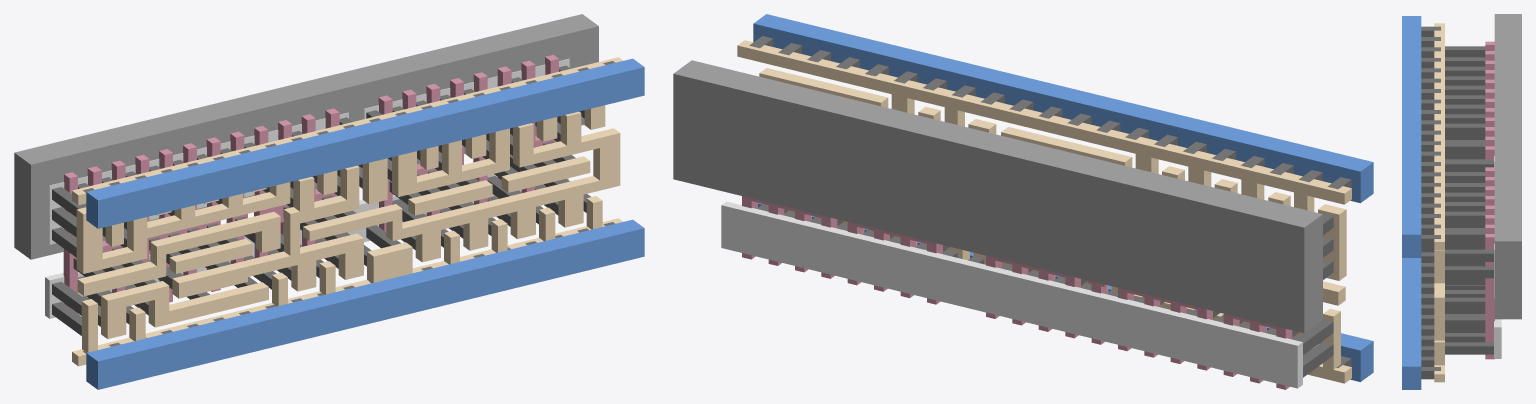
Rendered from sky130_fd_sc_hd__a2bb2oi_4.gds.gltf.
3 renders of one model, left to right at view 1: azimuth 30°, elevation 25°; view 2: azimuth 150°, elevation 25°; view 3: azimuth 270°, elevation 25°, orthographic. The views are drawn at different scales.
Visible parts, largest first — view 1: sky130_fd_sc_hd__a2bb2oi_4_li1, sky130_fd_sc_hd__a2bb2oi_4_met1, sky130_fd_sc_hd__a2bb2oi_4_nwell, sky130_fd_sc_hd__a2bb2oi_4_licon, sky130_fd_sc_hd__a2bb2oi_4_poly, sky130_fd_sc_hd__a2bb2oi_4_diff, sky130_fd_sc_hd__a2bb2oi_4_mcon; view 2: sky130_fd_sc_hd__a2bb2oi_4_nwell, sky130_fd_sc_hd__a2bb2oi_4_diff, sky130_fd_sc_hd__a2bb2oi_4_li1, sky130_fd_sc_hd__a2bb2oi_4_met1, sky130_fd_sc_hd__a2bb2oi_4_poly, sky130_fd_sc_hd__a2bb2oi_4_mcon, sky130_fd_sc_hd__a2bb2oi_4_licon; view 3: sky130_fd_sc_hd__a2bb2oi_4_licon, sky130_fd_sc_hd__a2bb2oi_4_nwell, sky130_fd_sc_hd__a2bb2oi_4_met1, sky130_fd_sc_hd__a2bb2oi_4_mcon, sky130_fd_sc_hd__a2bb2oi_4_li1, sky130_fd_sc_hd__a2bb2oi_4_poly, sky130_fd_sc_hd__a2bb2oi_4_diff.
Boxes of the visible parts, bbox=[...] form: sky130_fd_sc_hd__a2bb2oi_4_li1: bbox=[72, 57, 622, 366]; sky130_fd_sc_hd__a2bb2oi_4_met1: bbox=[86, 58, 644, 389]; sky130_fd_sc_hd__a2bb2oi_4_nwell: bbox=[14, 14, 598, 259]; sky130_fd_sc_hd__a2bb2oi_4_licon: bbox=[52, 65, 590, 335]; sky130_fd_sc_hd__a2bb2oi_4_poly: bbox=[63, 55, 558, 313]; sky130_fd_sc_hd__a2bb2oi_4_diff: bbox=[45, 58, 569, 318]; sky130_fd_sc_hd__a2bb2oi_4_mcon: bbox=[83, 61, 614, 353]; sky130_fd_sc_hd__a2bb2oi_4_nwell: bbox=[673, 60, 1322, 333]; sky130_fd_sc_hd__a2bb2oi_4_diff: bbox=[721, 201, 1302, 388]; sky130_fd_sc_hd__a2bb2oi_4_li1: bbox=[737, 40, 1351, 383]; sky130_fd_sc_hd__a2bb2oi_4_met1: bbox=[753, 14, 1373, 381]; sky130_fd_sc_hd__a2bb2oi_4_poly: bbox=[742, 196, 1292, 389]; sky130_fd_sc_hd__a2bb2oi_4_mcon: bbox=[749, 36, 1351, 367]; sky130_fd_sc_hd__a2bb2oi_4_licon: bbox=[758, 128, 1333, 377]; sky130_fd_sc_hd__a2bb2oi_4_licon: bbox=[1445, 46, 1493, 354]; sky130_fd_sc_hd__a2bb2oi_4_nwell: bbox=[1494, 14, 1521, 319]; sky130_fd_sc_hd__a2bb2oi_4_met1: bbox=[1402, 16, 1421, 389]; sky130_fd_sc_hd__a2bb2oi_4_mcon: bbox=[1421, 26, 1440, 379]; sky130_fd_sc_hd__a2bb2oi_4_li1: bbox=[1434, 23, 1444, 382]; sky130_fd_sc_hd__a2bb2oi_4_poly: bbox=[1485, 41, 1494, 359]; sky130_fd_sc_hd__a2bb2oi_4_diff: bbox=[1494, 156, 1501, 358].
Bounding box in the file's own units: 10.04 × 3.2 × 2.24.
